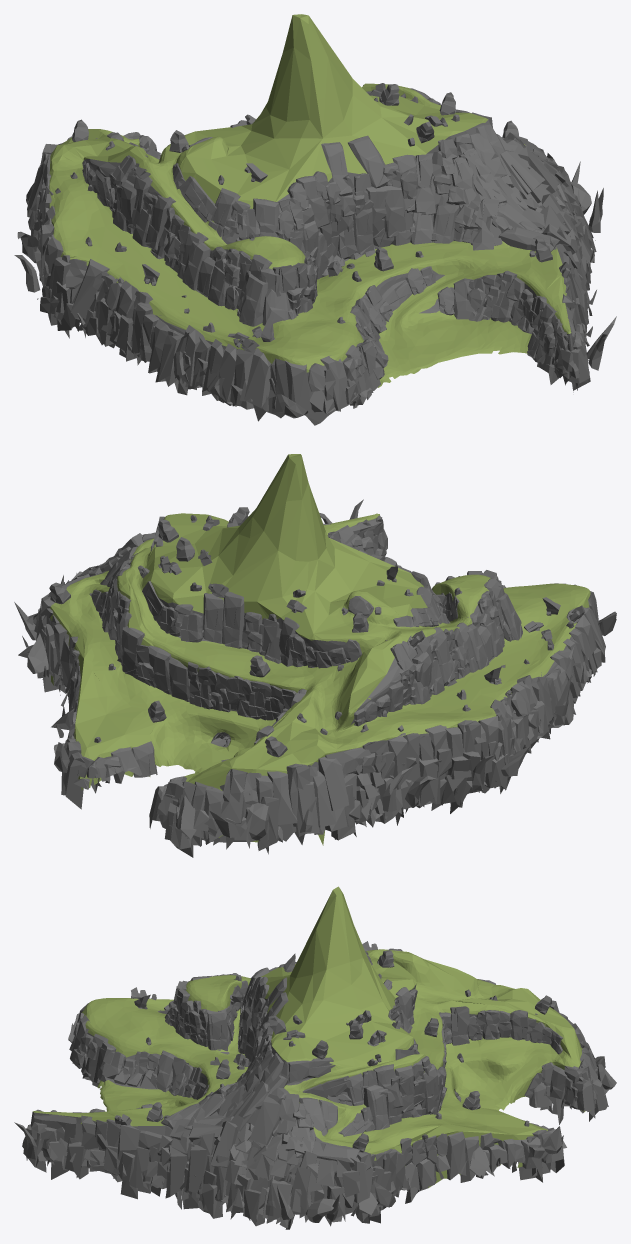
The model's file is Fisherman_island_01.fbx.
The picture shows the model from 3 angles, top to bottom: view 1: azimuth 30°, elevation 25°; view 2: azimuth 150°, elevation 25°; view 3: azimuth 270°, elevation 25°; orthographic projection. The views are drawn at different scales.
Parts seen in each view (by area): view 1: Clifs_01, Island_01, Rocks_01, Rocks_02; view 2: Island_01, Clifs_01, Rocks_02, Rocks_01; view 3: Clifs_01, Island_01, Rocks_01, Rocks_02.
Boxes of the visible parts, box(x1,y1,x2,y2) form: Clifs_01: box(27, 85, 593, 421); Island_01: box(48, 14, 573, 425); Rocks_01: box(55, 83, 571, 353); Rocks_02: box(14, 161, 616, 418); Island_01: box(50, 454, 590, 845); Clifs_01: box(34, 515, 605, 857); Rocks_02: box(14, 499, 616, 840); Rocks_01: box(49, 507, 585, 757); Clifs_01: box(22, 948, 608, 1229); Island_01: box(30, 886, 596, 1219); Rocks_01: box(114, 941, 551, 1152); Rocks_02: box(14, 1013, 616, 1222).
Bounding box in the file's own units: 20258 × 10574 × 23378.
